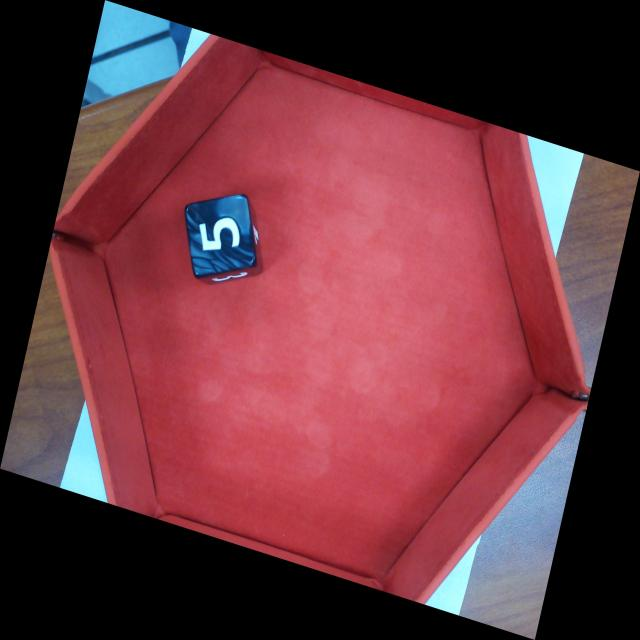dice: (182, 192, 260, 281)
